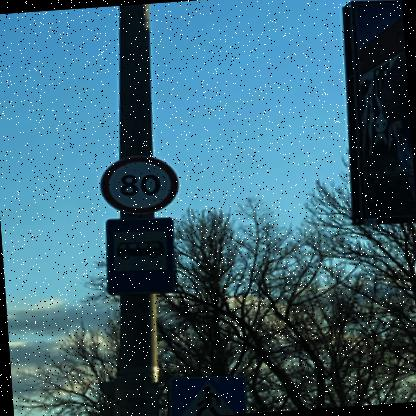crosswalk: (163, 368, 248, 415)
speedlimit: (96, 152, 178, 216)
